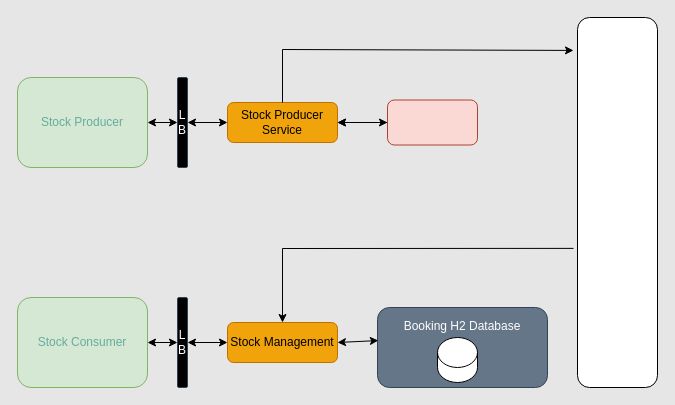
This 675x405 diagram has some shape labels left out. The centre of each missing label's shape, as x and y in pixels:
R a b b i t M Q: point (617, 202)
Redis: point (432, 122)
